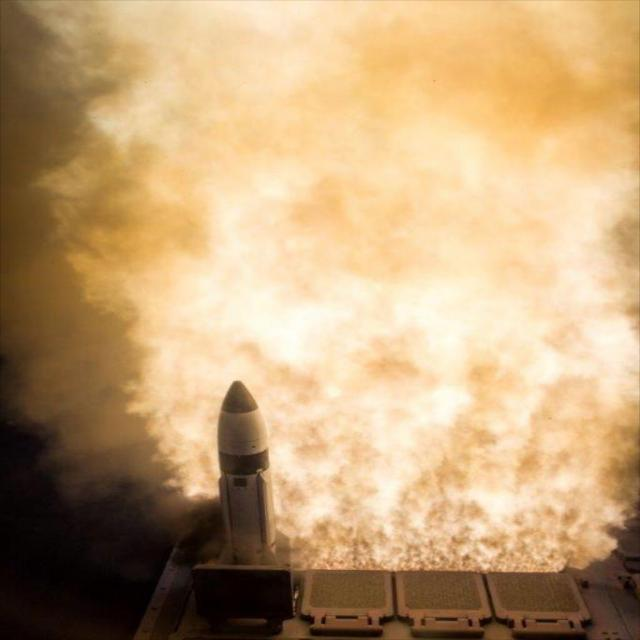missile: (209, 379, 292, 563)
